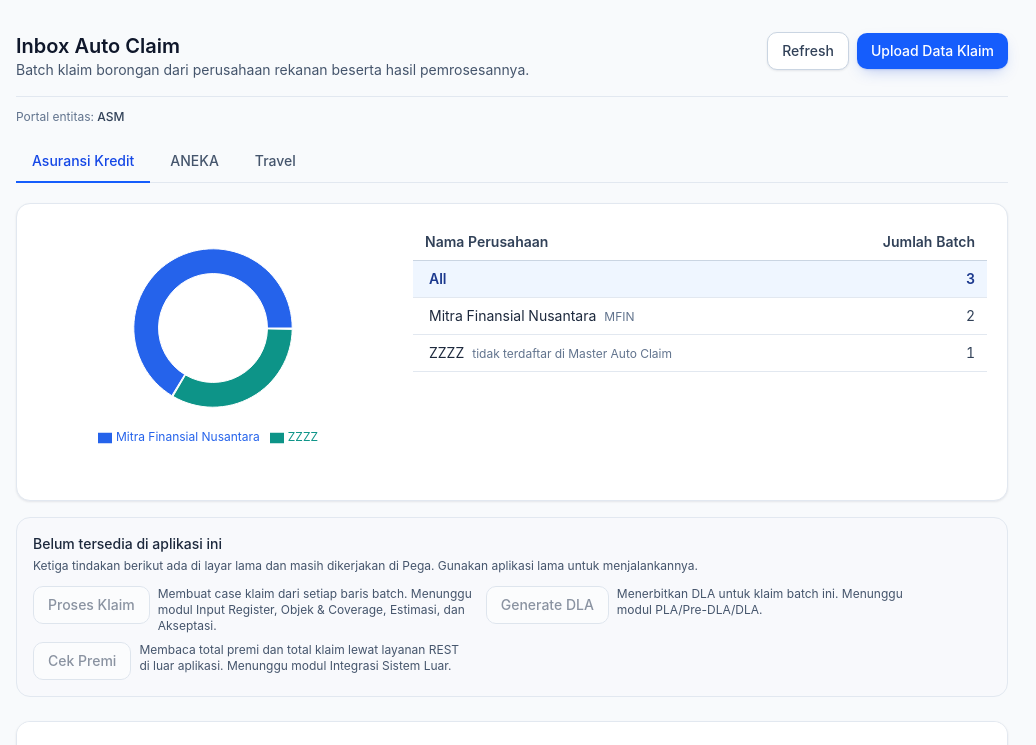
Test: unggah berkas klaim › menyatakan kode perusahaan tidak perlu diisi karena dicari dari polis
Step 1. Click the button "Upload Data Klaim" → (932, 51), box x1=857 y1=33 x2=1008 y2=69
(page scrolled)
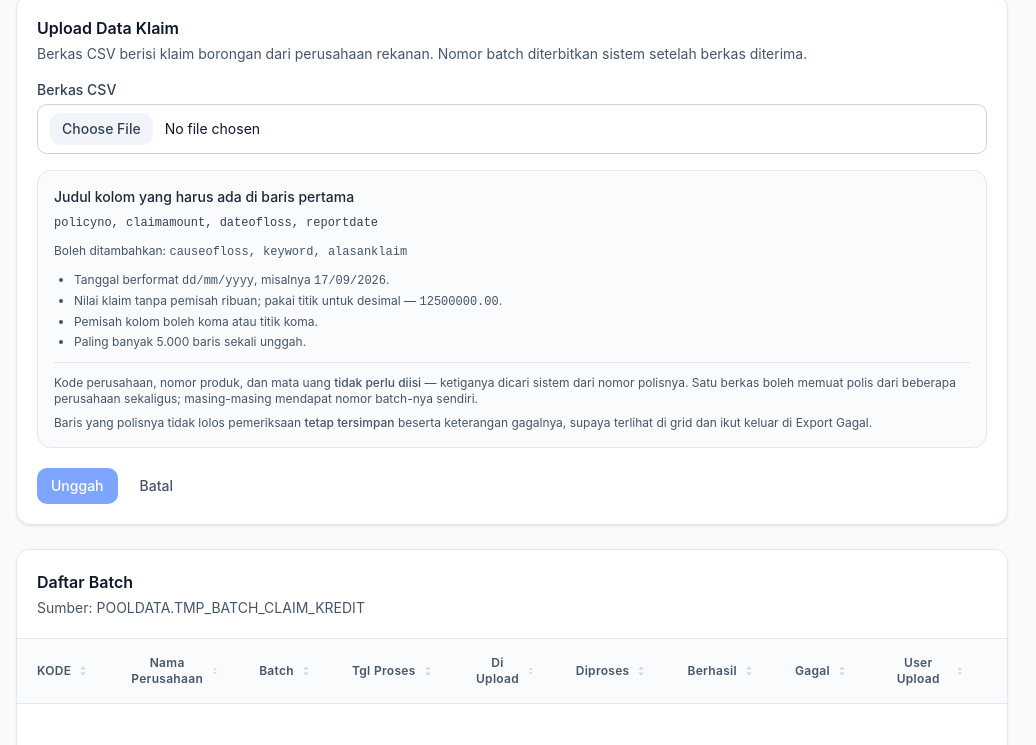
Expected: the text "Kode perusahaan, nomor produk, dan mata uang" is shown, x1=54 y1=375 x2=331 y2=390
